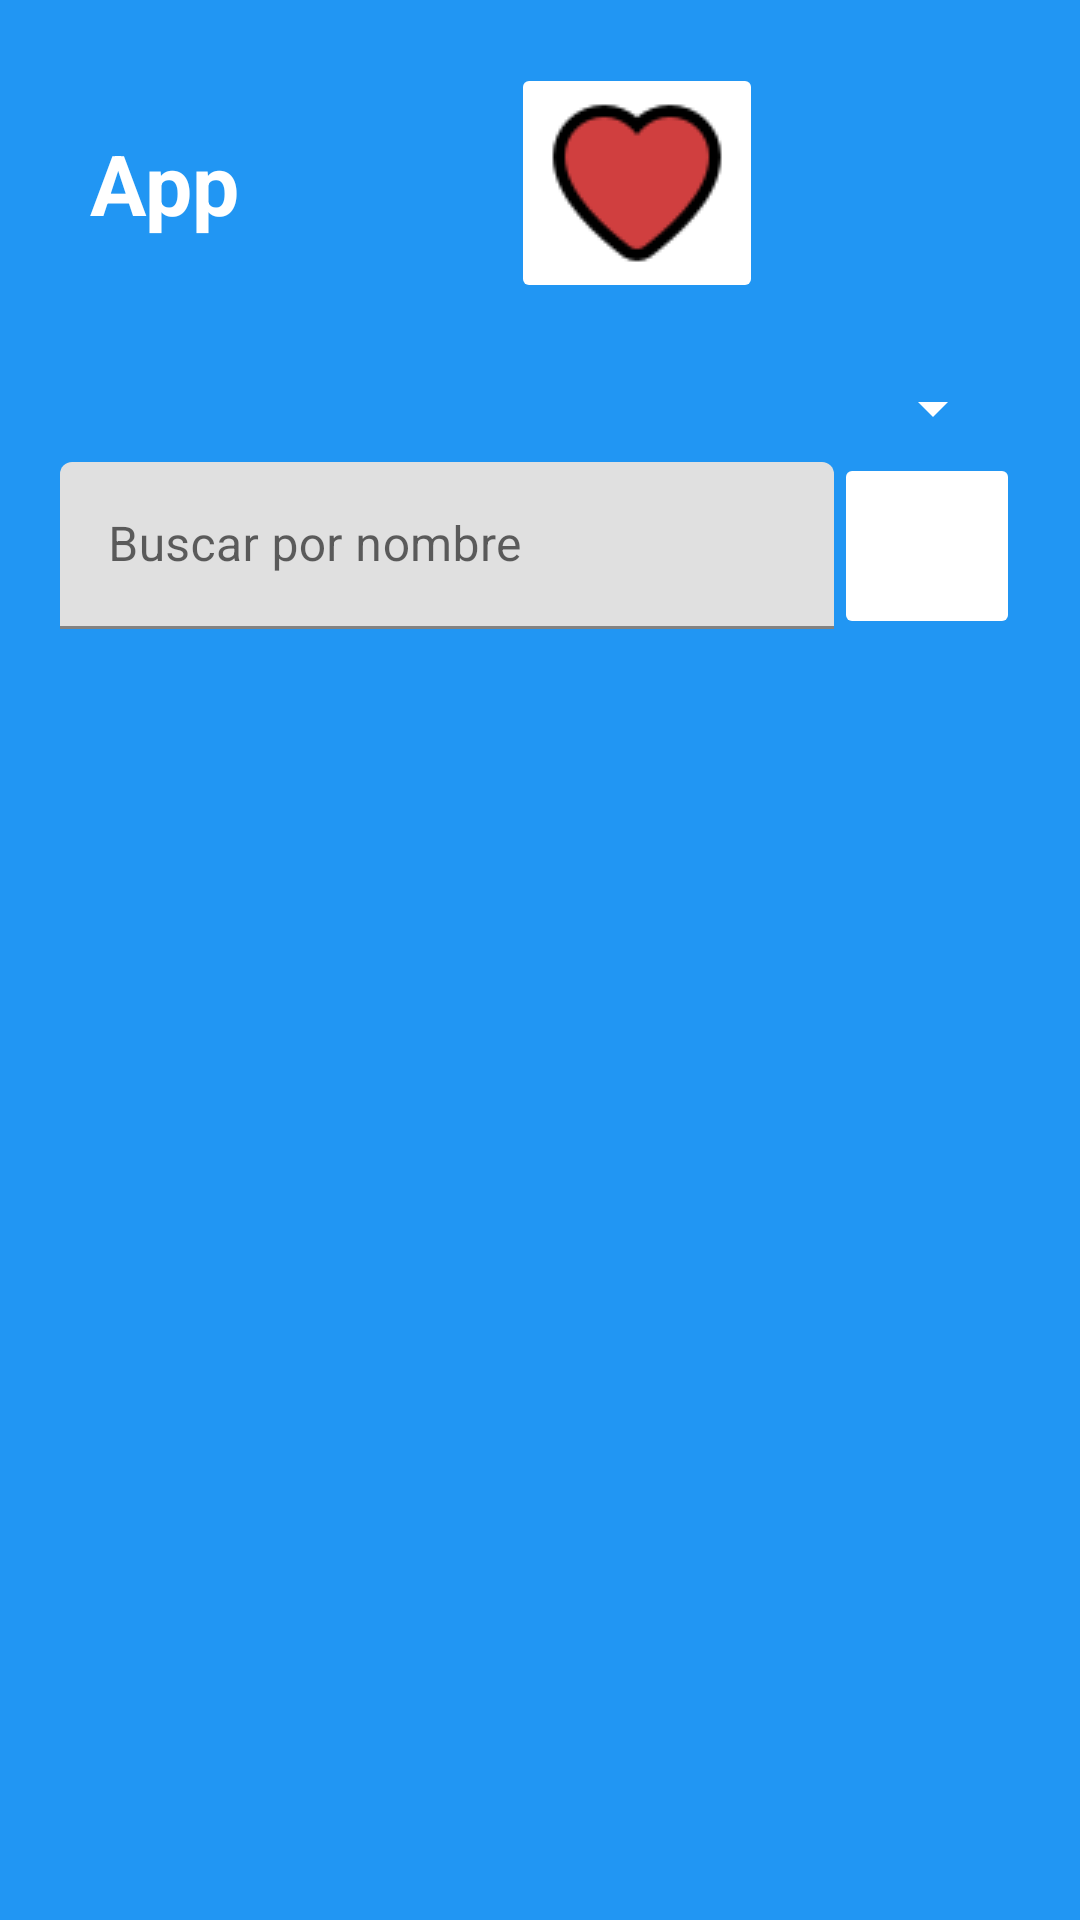

Point at icon controls on the screen. Image size 1080px x 1920px, points as [x,y].
fav relleno: [637,183]
